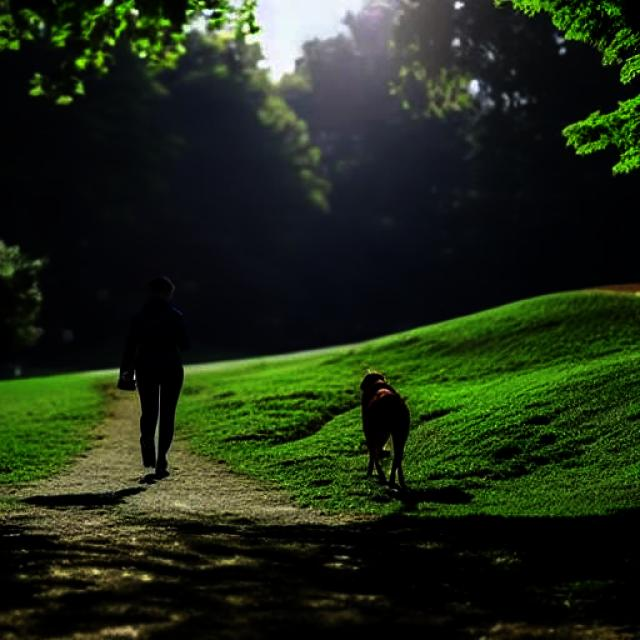Unleashed_Dog: (137, 369, 409, 498)
